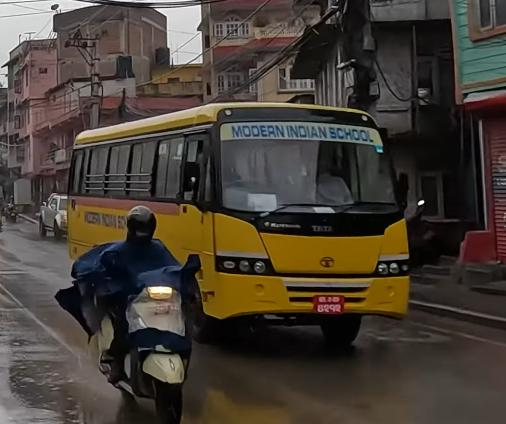school_bus: (65, 96, 417, 355)
scooter: (79, 259, 196, 418)
